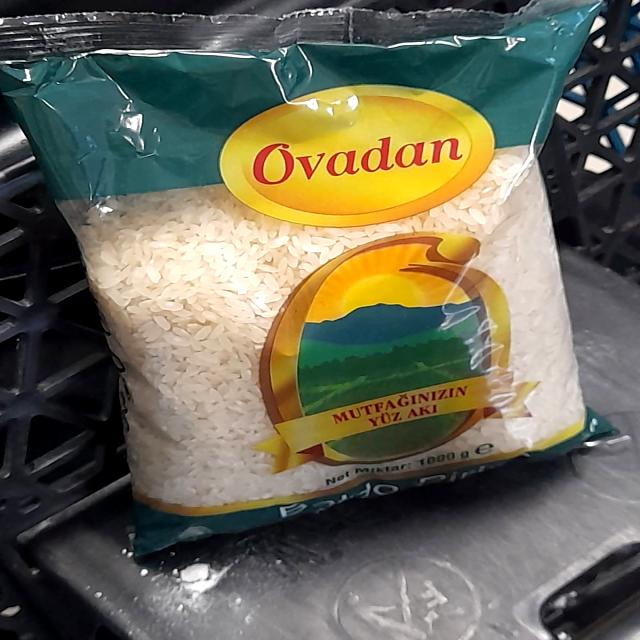rice: (35, 23, 604, 492)
